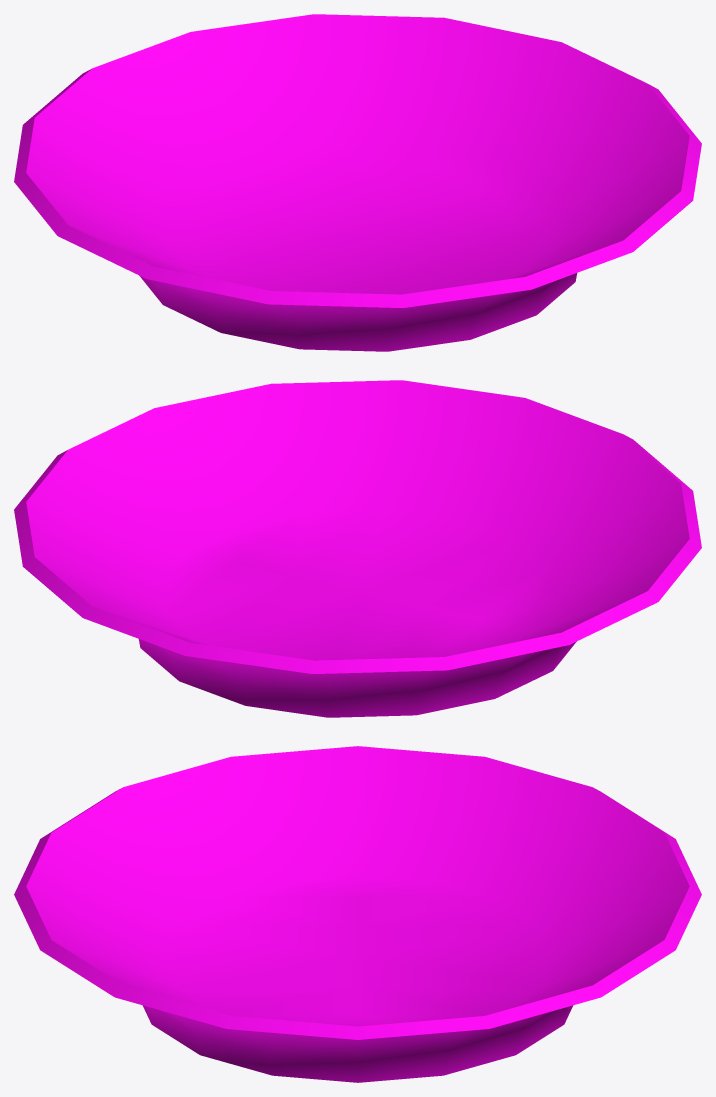
Rendered from bowl_meshCollider.fbx.
3 views of the same model, one above another, from view 1: azimuth 30°, elevation 25°; view 2: azimuth 150°, elevation 25°; view 3: azimuth 270°, elevation 25° (orthographic).
Parts seen in each view (by area): view 1: foods_bowl_1_meshCollider; view 2: foods_bowl_1_meshCollider; view 3: foods_bowl_1_meshCollider.
Part boxes in pixels (box(x1,y1,x2,y2)): foods_bowl_1_meshCollider: box(14, 14, 701, 351); foods_bowl_1_meshCollider: box(14, 380, 701, 717); foods_bowl_1_meshCollider: box(14, 746, 701, 1082).
Bounding box in the file's own units: 20.43 × 3.35 × 20.43.
